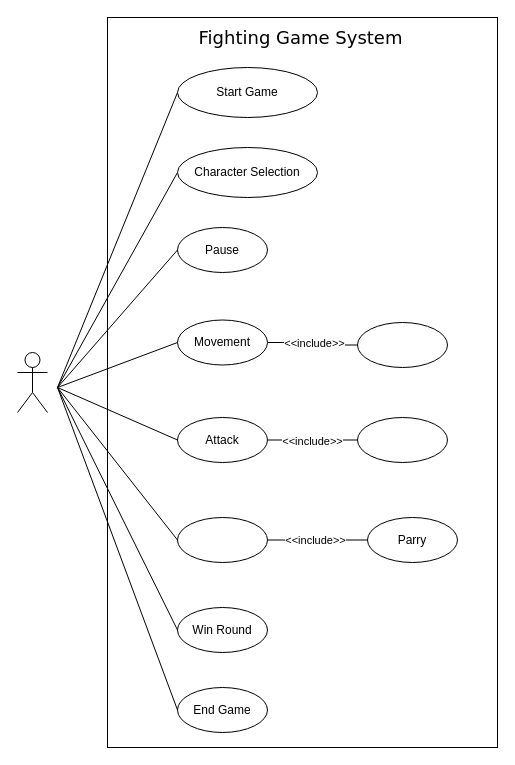
This 515x765 diagram has some shape labels left out. The centre of each missing label's shape, as x and y in pixels:
Block: point 222,539
Dash: point 402,345
Special Attack: point 402,439
ผู้เล่น: point 32,382
